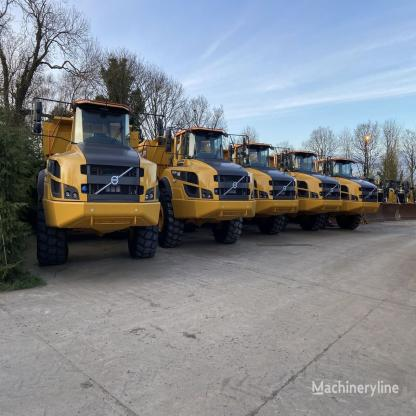dump_truck: (24, 86, 158, 262), (160, 110, 249, 251), (249, 136, 301, 236), (297, 146, 339, 238), (337, 148, 381, 228)
